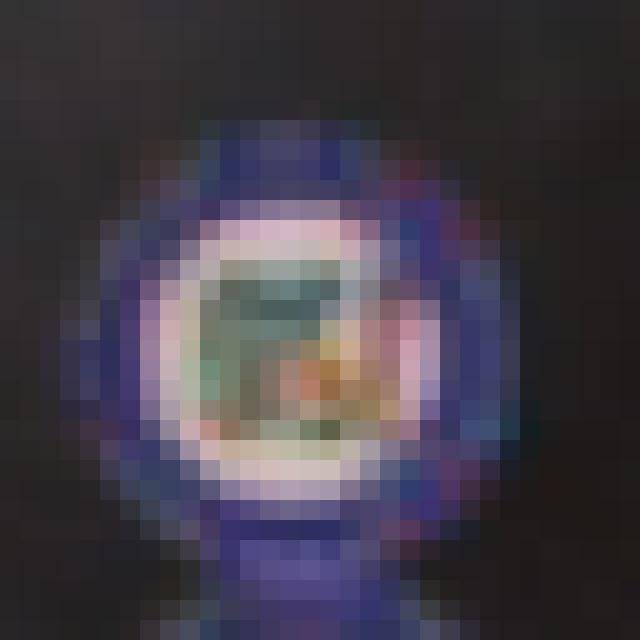SPEED LIMIT 120: (84, 153, 503, 584)
